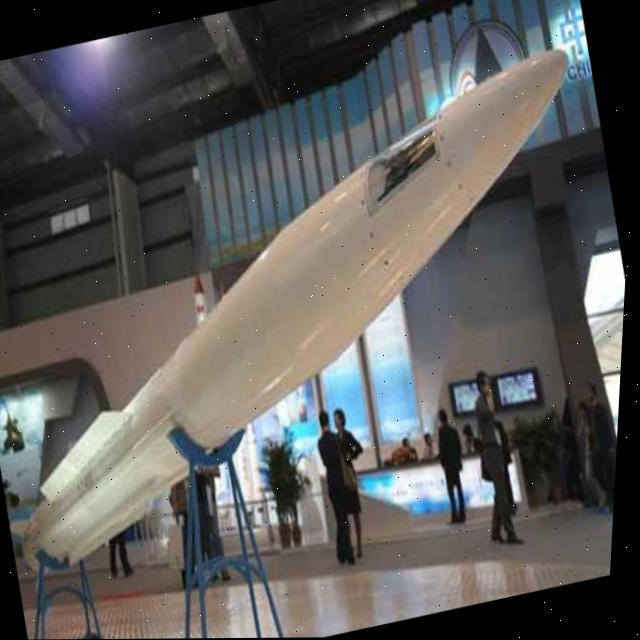missile: (0, 38, 638, 592)
